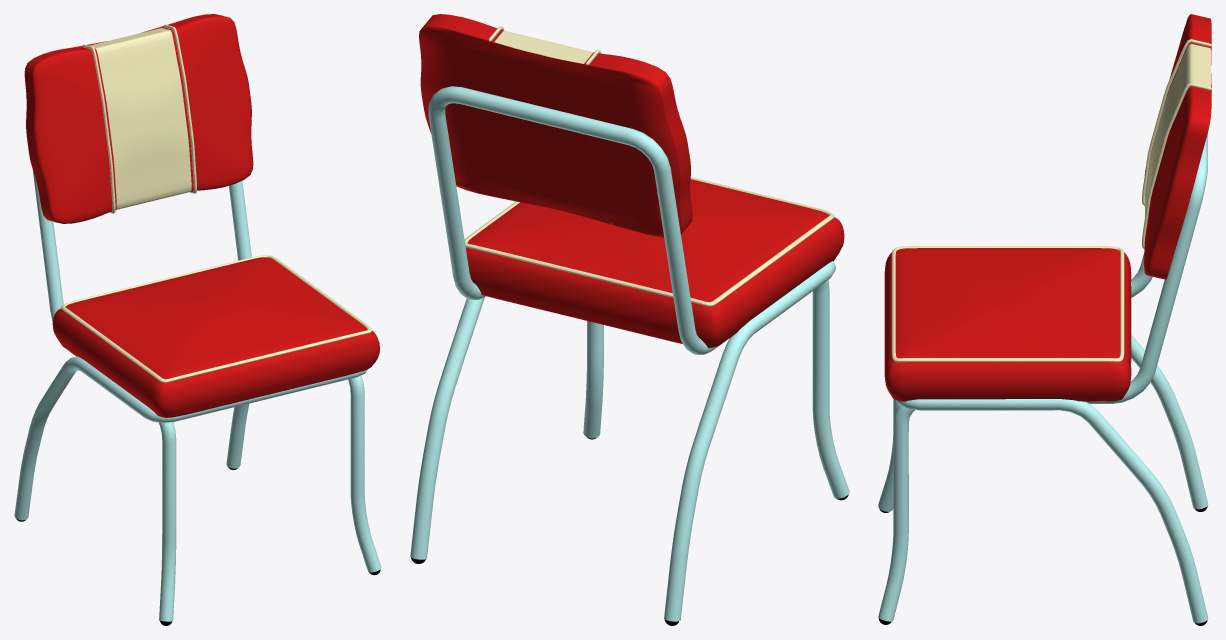
3 renders of one model, left to right at view 1: azimuth 30°, elevation 25°; view 2: azimuth 150°, elevation 25°; view 3: azimuth 270°, elevation 25°, orthographic. The views are drawn at different scales.
Parts seen in each view (by area): view 1: Cube2_extract4_default.000; view 2: Cube2_extract4_default.000; view 3: Cube2_extract4_default.000.
Part boxes in pixels (bbox=[...]): Cube2_extract4_default.000: bbox=[14, 14, 381, 625]; Cube2_extract4_default.000: bbox=[410, 14, 849, 625]; Cube2_extract4_default.000: bbox=[878, 14, 1211, 625].
Size of the model in its own units: 480 by 937 by 557.
